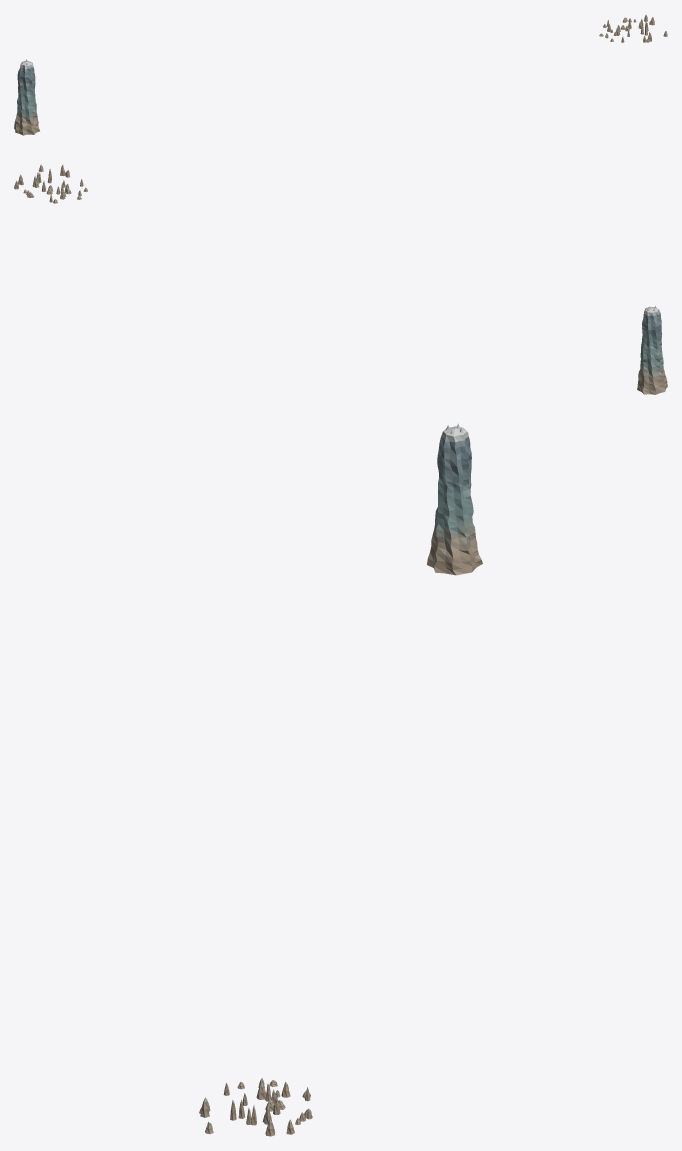
File: sect_baiqiao_surroundings.glb
3 renders of one model, top to bottom at view 1: azimuth 30°, elevation 25°; view 2: azimuth 150°, elevation 25°; view 3: azimuth 270°, elevation 25°, orthographic. The views are drawn at different scales.
Visible parts, largest first — view 1: sect_baiqiao_surroundings; view 2: sect_baiqiao_surroundings; view 3: sect_baiqiao_surroundings.
Boxes of the visible parts, x1=… form: sect_baiqiao_surroundings: x1=14, y1=15, x2=667, y2=135; sect_baiqiao_surroundings: x1=14, y1=164, x2=667, y2=394; sect_baiqiao_surroundings: x1=199, y1=423, x2=482, y2=1136.
Bounding box in the file's own units: 12885 × 1485 × 2670.
